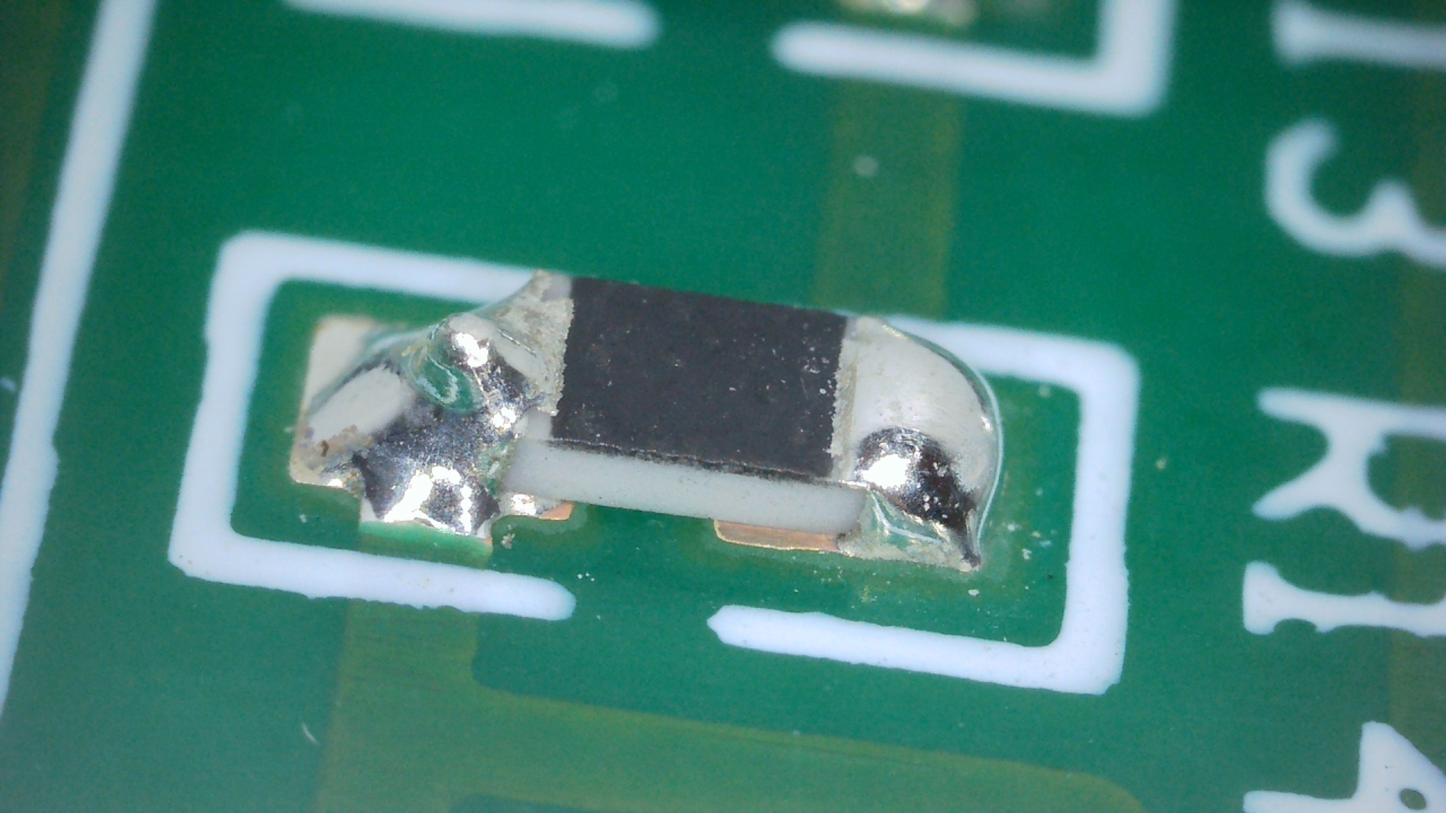NG: (297, 270, 567, 536), (830, 315, 1002, 573), (408, 314, 552, 410)
